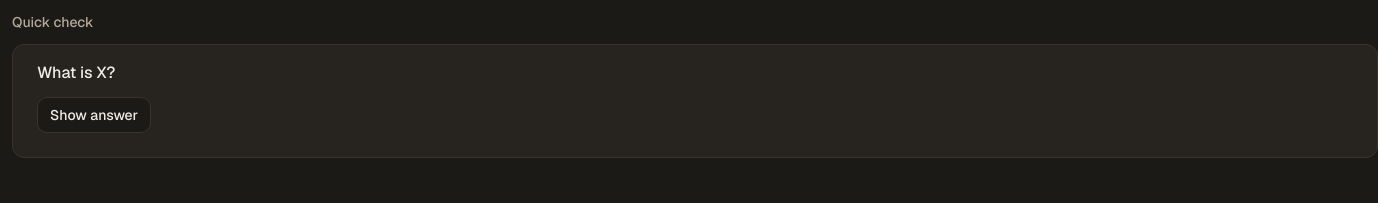
Test: InlineReview › records missed result when Missed is clicked
The image size is (1378, 203).
Click the button with test id "reveal-q1".
click(94, 115)  # box [37,97,151,133]
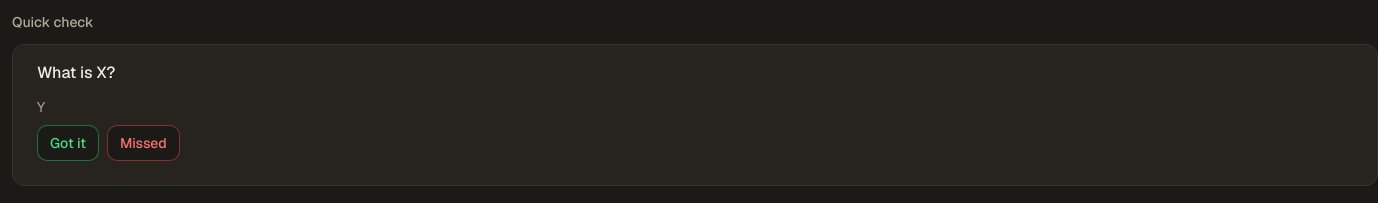
Click the button with test id "missed-q1".
click(143, 143)  # box [107,125,180,161]
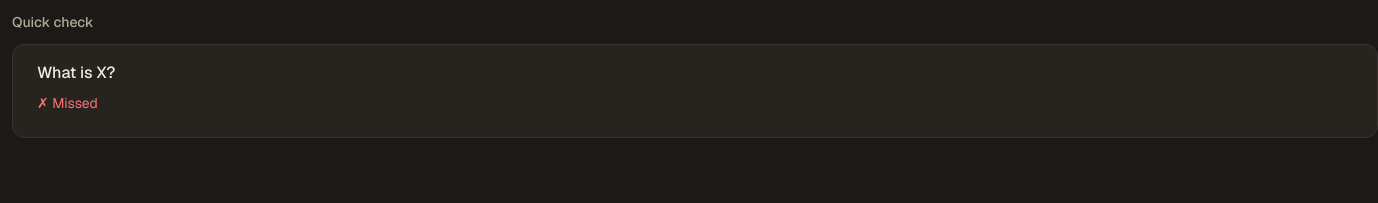
Check: the element with test id "result-q1" shows "Missed", box [37,94,98,112]
